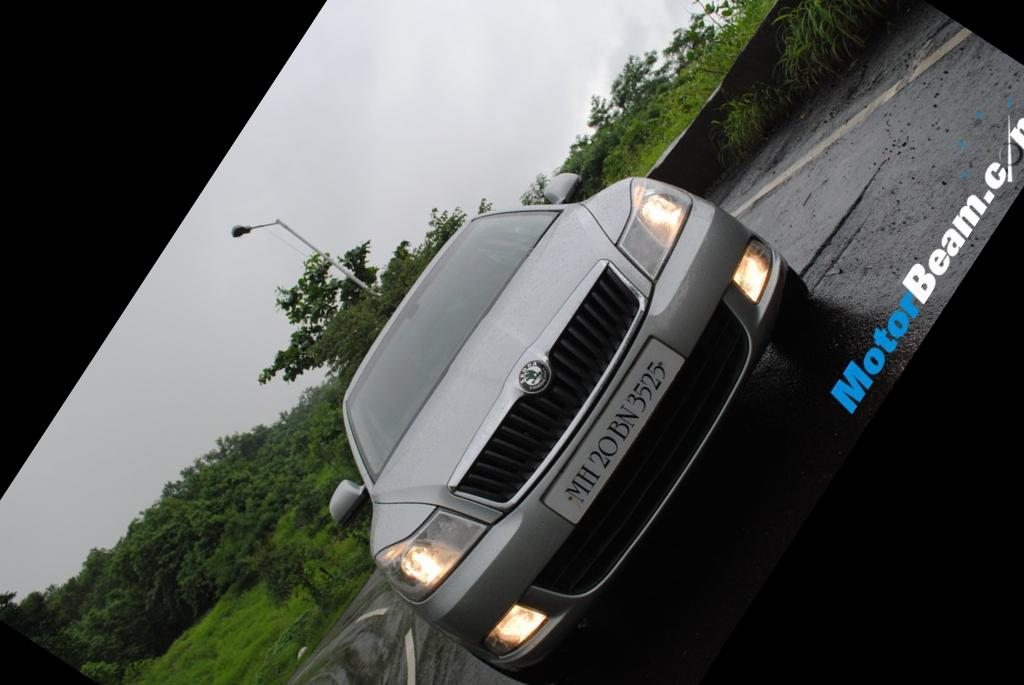plate: (535, 327, 699, 536)
